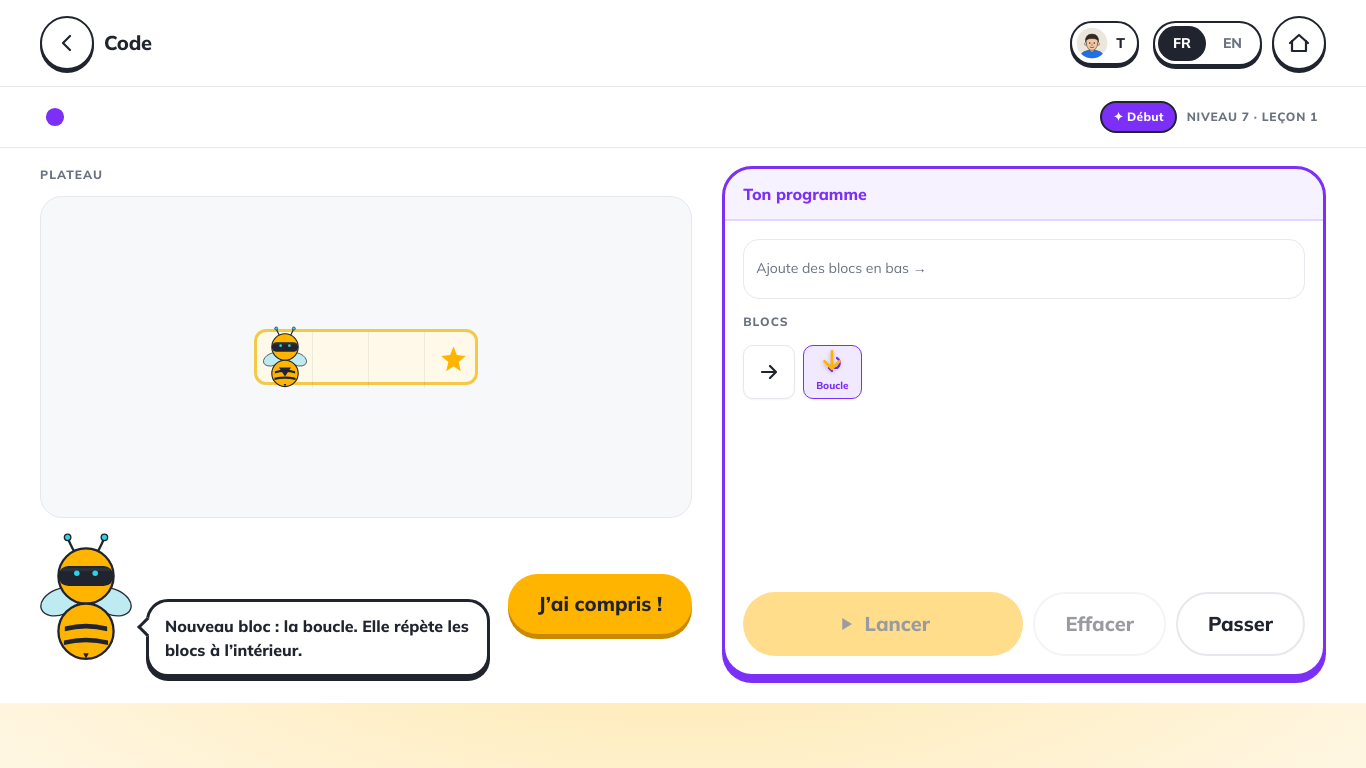
CodeTurtleSession efficiency (L7) › a flat (over-optimal) solution wins but nudges to go shorter
Click the button named "right" at (769,372), box [743,345,795,399]
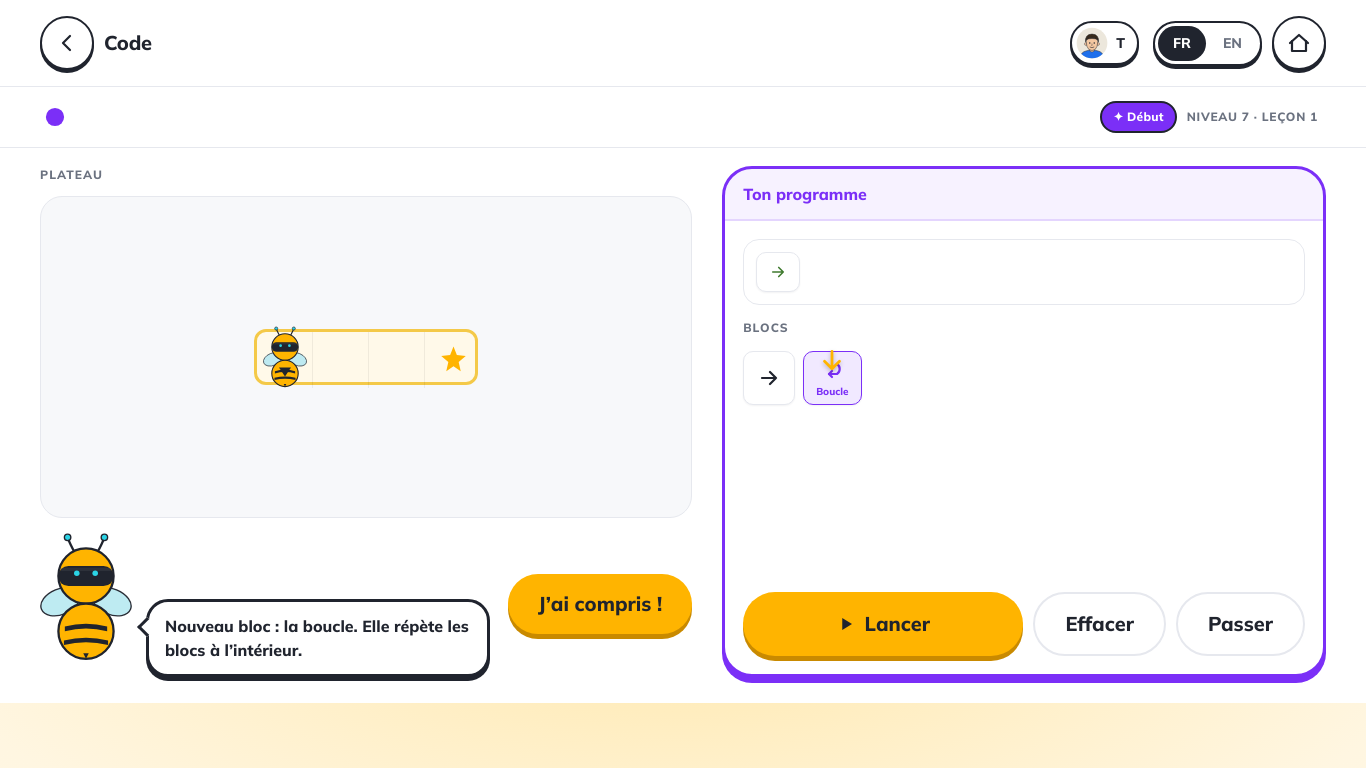
Click the button named "right" at (769,378), box [743,351,795,405]
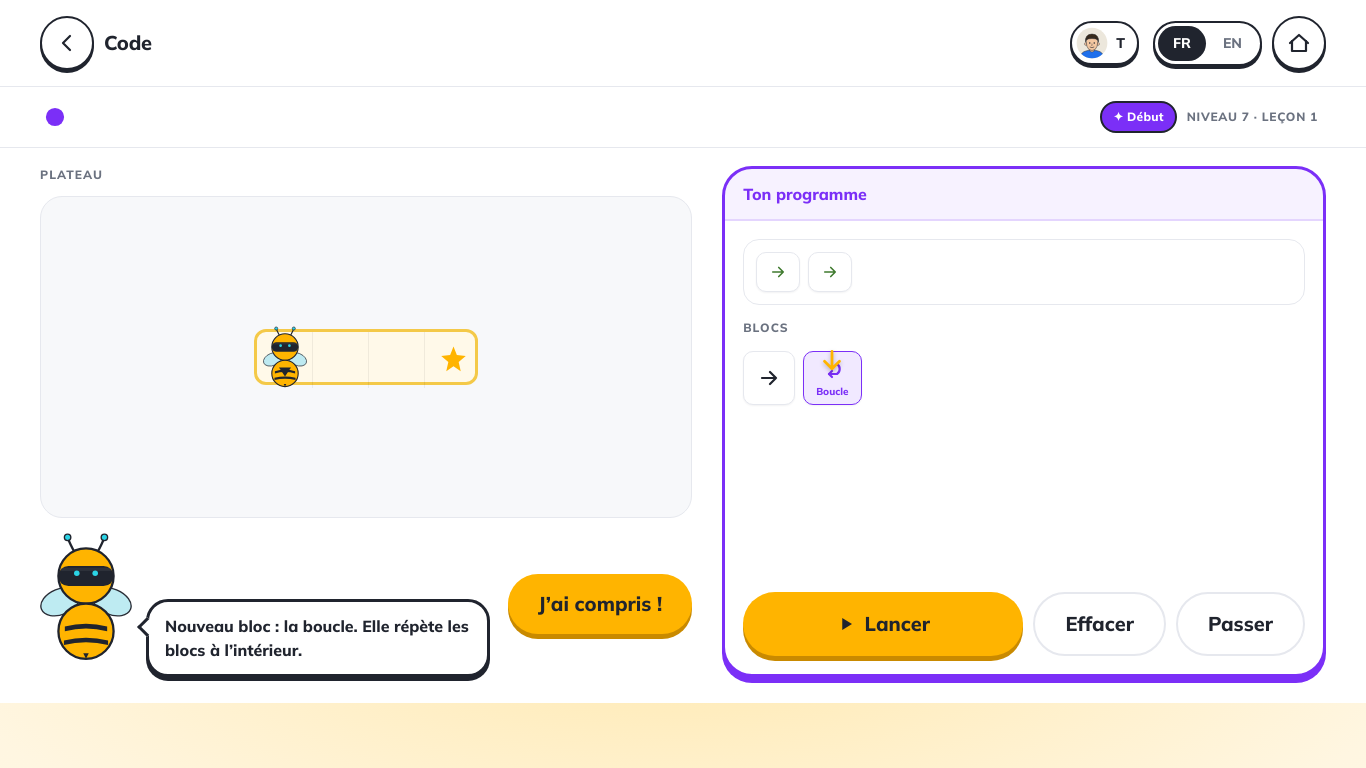
Click the button named "right" at (769,378), box [743,351,795,405]
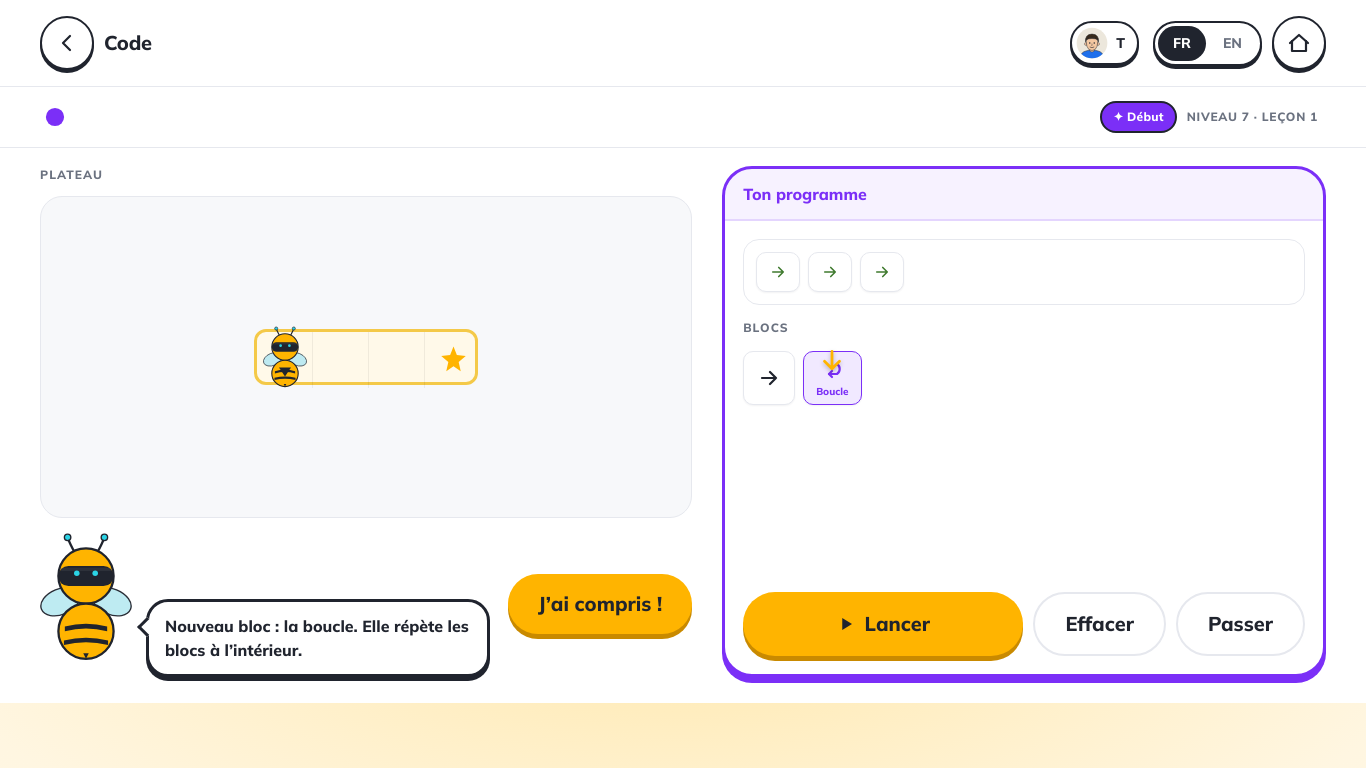
Click the button "Lancer" at (883,624), box [743,592,1023,656]
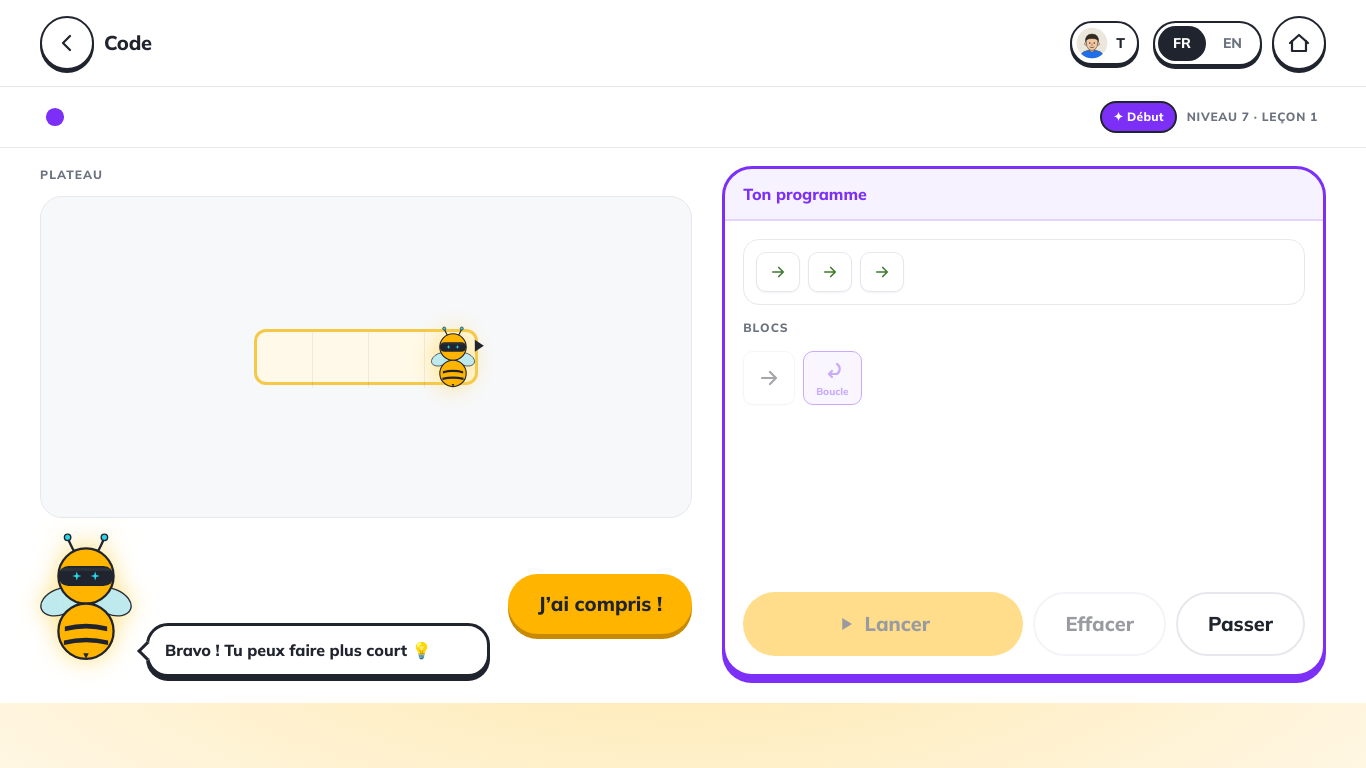
expect the text with class "bee-coach-text" reads "Bravo ! Tu peux faire plus court 💡": met, box [165,640,432,660]
